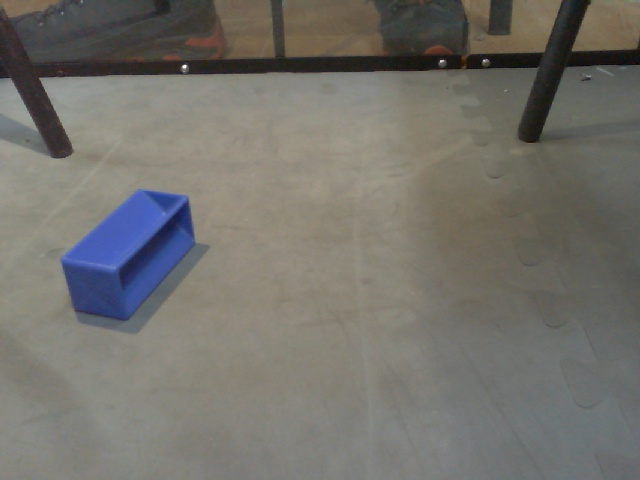BlueSample: (59, 187, 199, 327)
